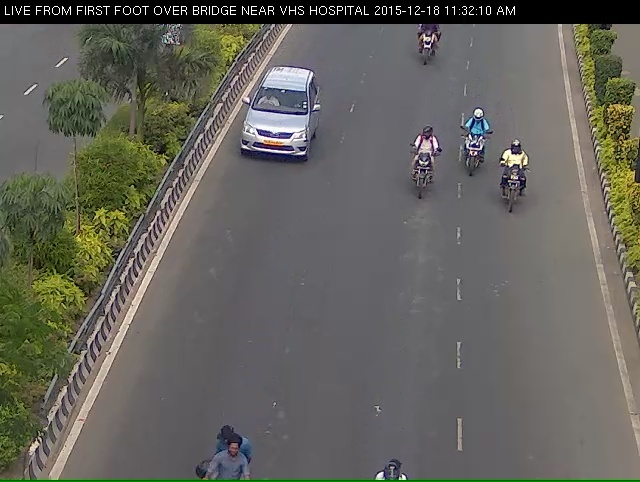Car: (241, 73, 320, 178)
Person: (447, 118, 493, 195), (497, 146, 534, 224), (407, 140, 438, 215), (409, 21, 444, 75)
